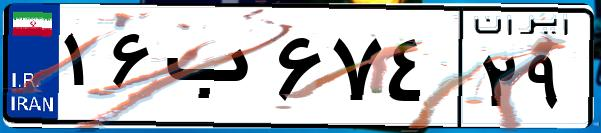1: (57, 26, 110, 100)
2: (475, 38, 525, 113)
4: (385, 28, 445, 110)
6: (270, 28, 330, 110), (110, 28, 158, 98)
7: (330, 28, 385, 110)
9: (525, 38, 570, 115)
ب: (158, 20, 270, 120)
